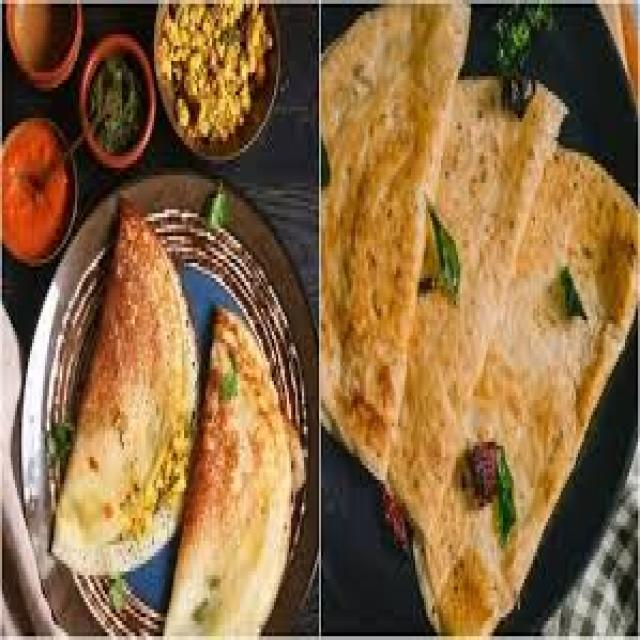DOSA: (327, 0, 638, 636), (47, 205, 201, 576), (161, 308, 310, 636)
